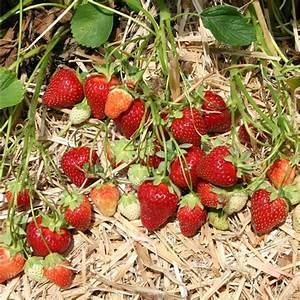Fresa: (134, 174, 184, 236), (25, 209, 75, 263), (58, 140, 108, 193), (245, 182, 292, 238), (189, 144, 245, 191), (38, 63, 91, 112), (164, 102, 218, 149), (82, 66, 124, 124), (189, 86, 237, 136), (175, 188, 214, 241), (57, 190, 100, 235), (41, 249, 76, 290)
